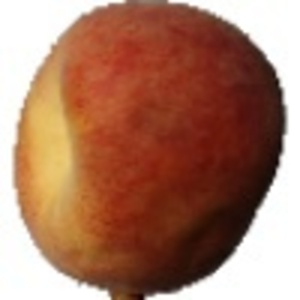pêssego: (1, 1, 287, 300)
